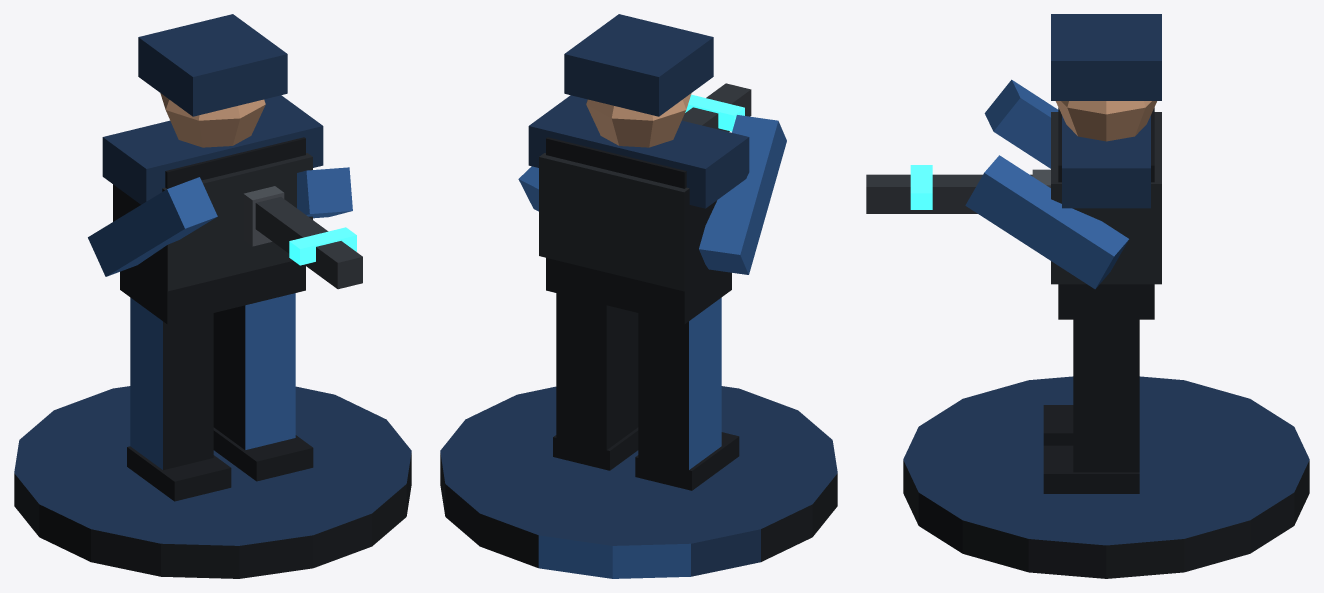
Rendered from police_officer.glb.
The picture shows the model from 3 angles, left to right: view 1: azimuth 30°, elevation 25°; view 2: azimuth 150°, elevation 25°; view 3: azimuth 270°, elevation 25°; orthographic projection.
Visible parts, largest first — view 1: police_officer; view 2: police_officer; view 3: police_officer.
Boxes of the visible parts, left/top/right/bottom form: police_officer: left=14, top=14, right=411, bottom=578; police_officer: left=440, top=14, right=837, bottom=578; police_officer: left=866, top=14, right=1309, bottom=578.
Bounding box in the file's own units: 1.1 × 1.36 × 1.2.
